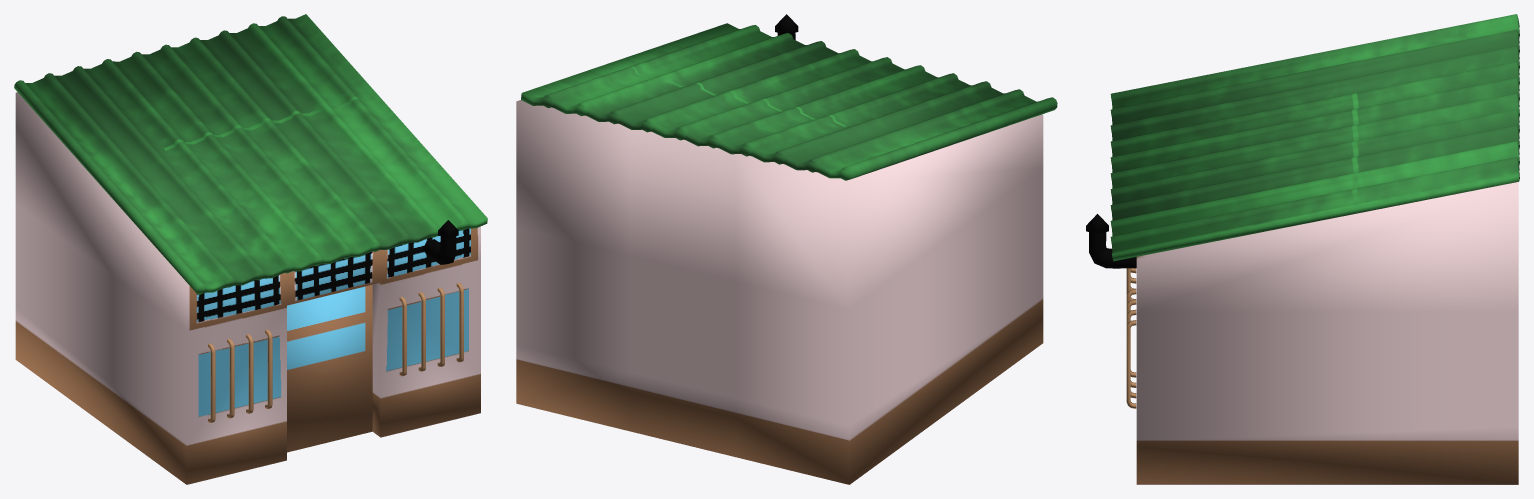
The model's file is house4.glb.
3 views of the same model, side by side, from view 1: azimuth 30°, elevation 25°; view 2: azimuth 150°, elevation 25°; view 3: azimuth 270°, elevation 25° (orthographic). The views are drawn at different scales.
Parts seen in each view (by area): view 1: house4, toitver.001, doorver.001, Cube.002, Plane.003; view 2: house4, toitver.001; view 3: house4, toitver.001, Plane.003, Cube.002.
Boxes of the visible parts, x1,y1,x2,y2 form: house4: (15,92,480,484); toitver.001: (14,14,487,294); doorver.001: (287,285,372,452); Cube.002: (208,282,463,422); Plane.003: (423,220,458,264); house4: (516,100,1043,484); toitver.001: (521,23,1057,180); house4: (1136,182,1518,484); toitver.001: (1110,14,1519,261); Plane.003: (1086,214,1136,268); Cube.002: (1126,268,1136,408).
Size of the model in its own units: 2.86 by 2.58 by 3.25.
1 material, 1 textured.
